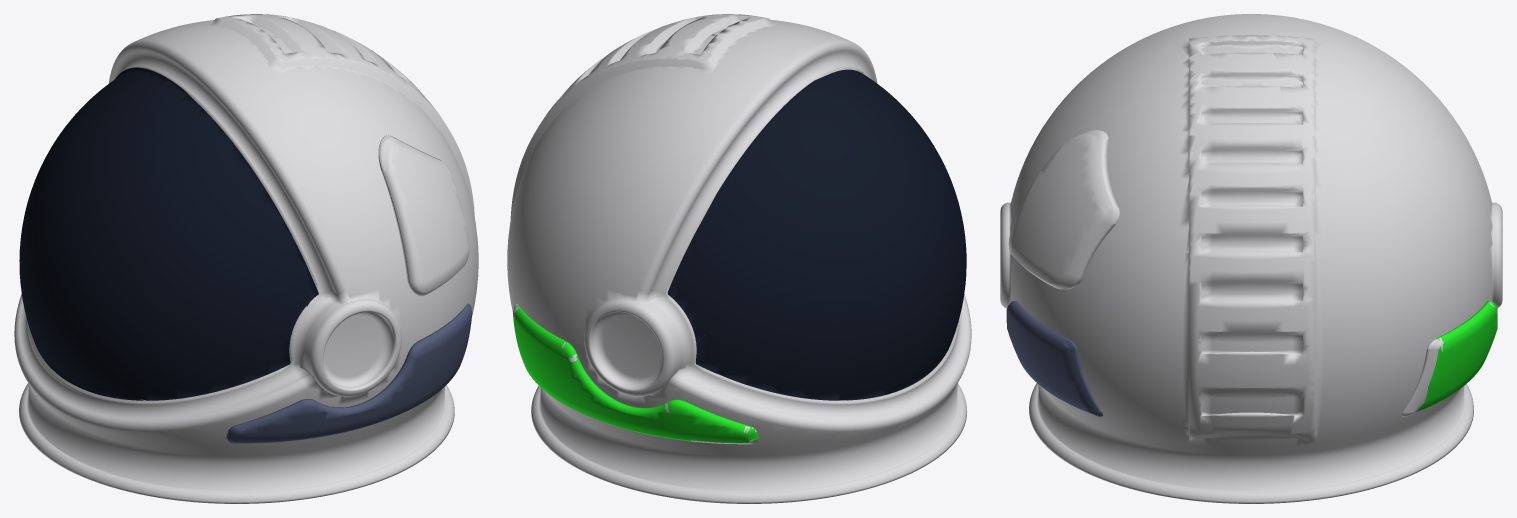
File: chromonaut-helmet.glb
The picture shows the model from 3 angles, left to right: view 1: azimuth 30°, elevation 25°; view 2: azimuth 150°, elevation 25°; view 3: azimuth 270°, elevation 25°; orthographic projection. The views are drawn at different scales.
Visible parts, largest first — view 1: HelmetShell, Visor, ImportedHelmet.003; view 2: HelmetShell, ImportedHelmet.002; view 3: HelmetShell, ImportedHelmet.003, Visor, ImportedHelmet.002.
Boxes of the visible parts, bbox=[...] form: HelmetShell: bbox=[14, 14, 478, 503]; Visor: bbox=[226, 303, 472, 443]; ImportedHelmet.003: bbox=[378, 135, 469, 296]; HelmetShell: bbox=[507, 14, 971, 503]; ImportedHelmet.002: bbox=[512, 304, 758, 444]; HelmetShell: bbox=[1000, 14, 1502, 503]; ImportedHelmet.003: bbox=[1008, 130, 1119, 289]; Visor: bbox=[1006, 301, 1102, 416]; ImportedHelmet.002: bbox=[1401, 301, 1497, 416].
Bounding box in the file's own units: 112 × 99.37 × 118.
